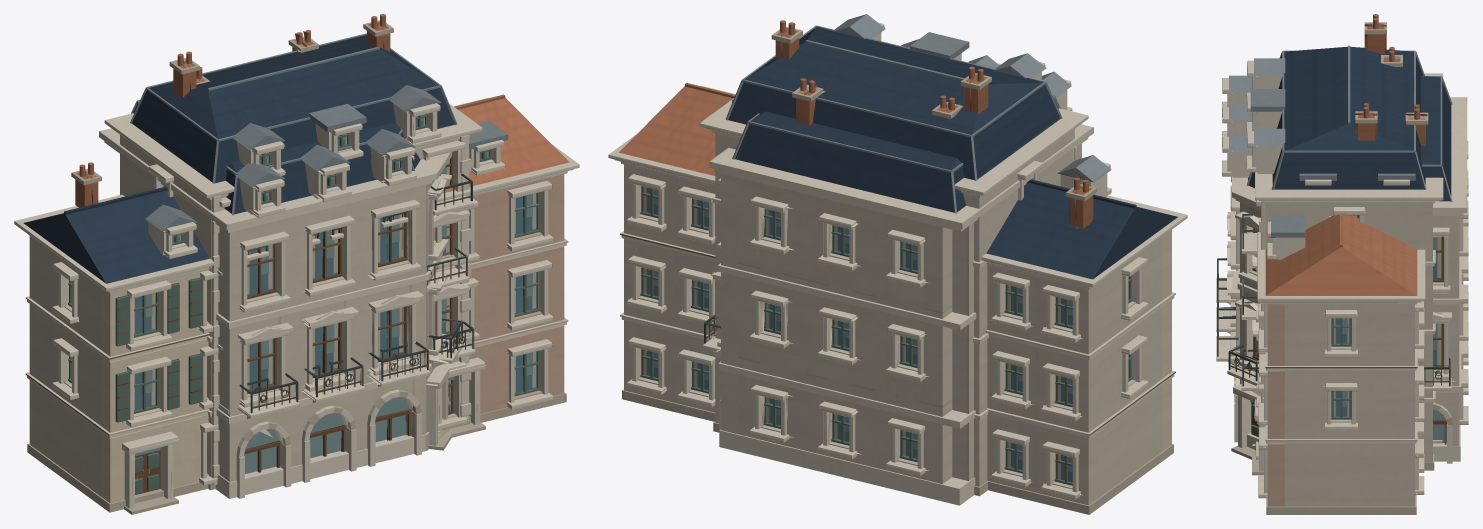
Rendered from paris.glb.
The picture shows the model from 3 angles, left to right: view 1: azimuth 30°, elevation 25°; view 2: azimuth 150°, elevation 25°; view 3: azimuth 270°, elevation 25°; orthographic projection. The views are drawn at different scales.
Visible parts, largest first — view 1: front_mitoyen_paris_01_mesh, hotel_angle_paris_01_mesh, immeuble_paris_01_mesh, hotel_angle_paris_01_distant_mesh, immeuble_paris_01_distant_mesh; view 2: hotel_angle_paris_01_mesh, front_mitoyen_paris_01_mesh, immeuble_paris_01_mesh, hotel_angle_paris_01_distant_mesh; view 3: front_mitoyen_paris_01_mesh, immeuble_paris_01_mesh, hotel_angle_paris_01_mesh, immeuble_paris_01_distant_mesh, hotel_angle_paris_01_distant_mesh.
Part boxes in pixels (<box>): front_mitoyen_paris_01_mesh: <box>14,94,579,514</box>; hotel_angle_paris_01_mesh: <box>99,30,463,498</box>; immeuble_paris_01_mesh: <box>104,14,482,490</box>; hotel_angle_paris_01_distant_mesh: <box>131,31,458,466</box>; immeuble_paris_01_distant_mesh: <box>148,18,467,426</box>; hotel_angle_paris_01_mesh: <box>702,39,1093,505</box>; front_mitoyen_paris_01_mesh: <box>608,83,1187,514</box>; immeuble_paris_01_mesh: <box>699,14,1088,496</box>; hotel_angle_paris_01_distant_mesh: <box>708,79,1072,470</box>; front_mitoyen_paris_01_mesh: <box>1252,214,1425,514</box>; immeuble_paris_01_mesh: <box>1241,14,1443,470</box>; hotel_angle_paris_01_mesh: <box>1216,46,1468,463</box>; immeuble_paris_01_distant_mesh: <box>1244,24,1442,457</box>; hotel_angle_paris_01_distant_mesh: <box>1216,104,1461,454</box>.
Size of the model in its own units: 3.21 by 2.49 by 1.61.
Materials: 1 (1 with a texture image).
